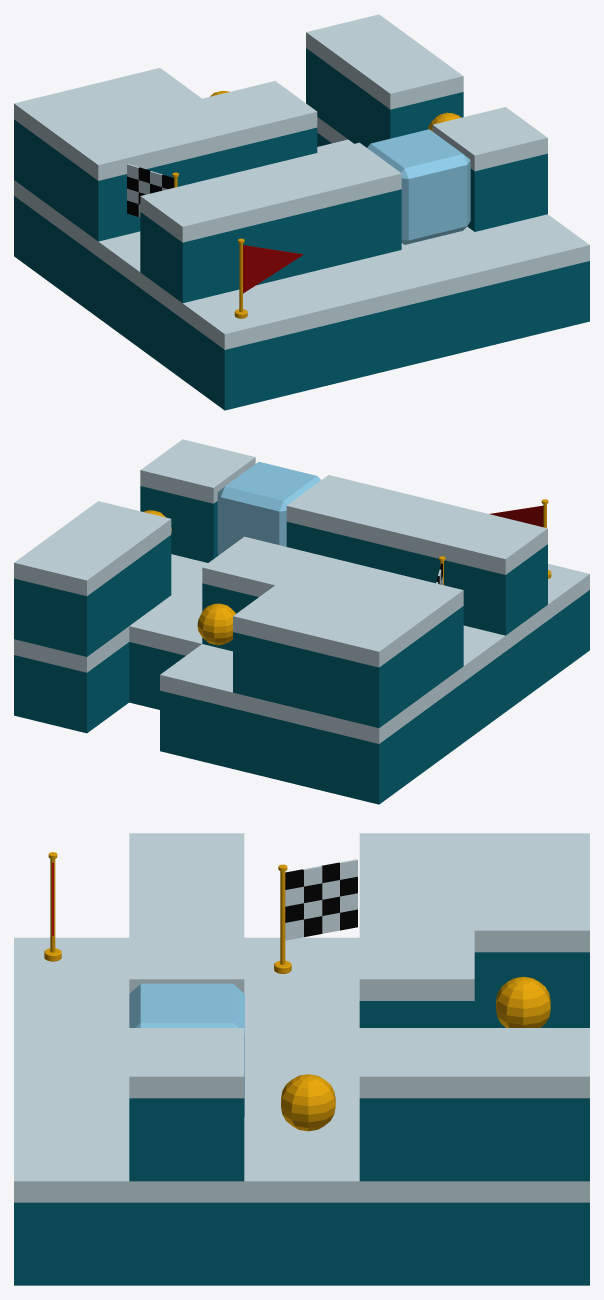
File: Level1-1.fbx
The picture shows the model from 3 angles, top to bottom: view 1: azimuth 30°, elevation 25°; view 2: azimuth 150°, elevation 25°; view 3: azimuth 270°, elevation 25°; orthographic projection. The views are drawn at different scales.
Parts seen in each view (by area): view 1: pCube226, pCube264, pCube270, pCube267, pCube276, pCube266, pCube240, pCube241, pCube242, pCube239, pCube265, pCube268 (+11 smaller); view 2: pCube271, pCube275, pCube264, pCube263, pCube259, pCube272, pCube267, pCube261, pCube270, pCube276, pCube266, pCube265 (+13 smaller); view 3: pCube247, pCube275, pCube267, pCube276, pCube242, pCube272, pCube258, pCube263, pCube252, pCube277, pCube266, polySurface68 (+17 smaller).
Boxes of the visible parts, left/top/right/bottom form: pCube226: left=182, top=285, right=297, bottom=410; pCube264: left=140, top=178, right=255, bottom=303; pCube270: left=56, top=116, right=171, bottom=241; pCube267: left=432, top=107, right=547, bottom=231; pCube276: left=348, top=45, right=463, bottom=147; pCube266: left=287, top=142, right=401, bottom=267; pCube240: left=329, top=250, right=443, bottom=374; pCube241: left=402, top=232, right=516, bottom=356; pCube242: left=475, top=214, right=589, bottom=339; pCube239: left=256, top=267, right=370, bottom=392; pCube265: left=214, top=160, right=328, bottom=285; pCube268: left=367, top=129, right=470, bottom=244; pCube271: left=306, top=603, right=421, bottom=727; pCube275: left=14, top=532, right=129, bottom=656; pCube264: left=432, top=510, right=547, bottom=635; pCube263: left=14, top=626, right=129, bottom=733; pCube259: left=306, top=698, right=421, bottom=804; pCube272: left=233, top=585, right=347, bottom=710; pCube267: left=140, top=439, right=255, bottom=562; pCube261: left=160, top=644, right=232, bottom=768; pCube270: left=348, top=572, right=463, bottom=696; pCube276: left=56, top=501, right=171, bottom=625; pCube266: left=286, top=475, right=401, bottom=564; pCube265: left=359, top=493, right=474, bottom=582; pCube247: left=244, top=1132, right=359, bottom=1285; pCube275: left=474, top=1028, right=589, bottom=1181; pCube267: left=129, top=1028, right=244, bottom=1181; pCube276: left=359, top=1028, right=474, bottom=1181; pCube242: left=14, top=1132, right=129, bottom=1285; pCube272: left=474, top=882, right=589, bottom=1027; pCube258: left=359, top=1181, right=474, bottom=1285; pCube263: left=474, top=1181, right=589, bottom=1285; pCube252: left=129, top=1181, right=244, bottom=1285; pCube277: left=359, top=930, right=474, bottom=1027; pCube266: left=129, top=930, right=244, bottom=993; polySurface68: left=274, top=859, right=357, bottom=973.
Bounding box in the file's own units: 500 × 200 × 500.
